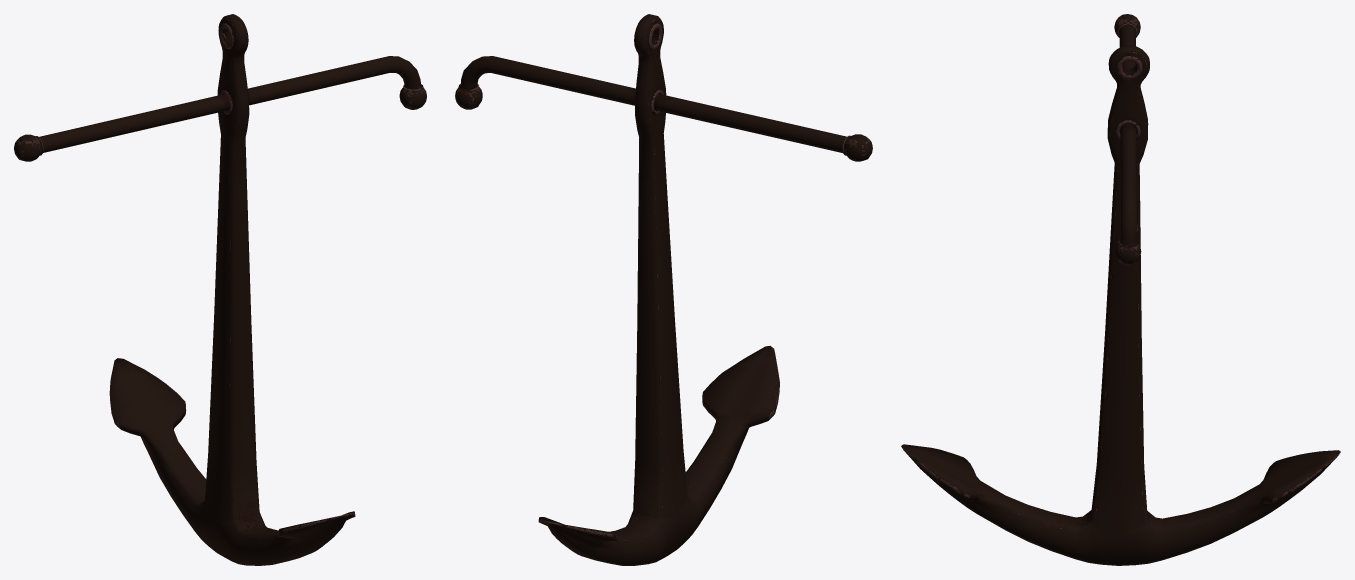
File: jangkar.fbx
The picture shows the model from 3 angles, left to right: view 1: azimuth 30°, elevation 25°; view 2: azimuth 150°, elevation 25°; view 3: azimuth 270°, elevation 25°; orthographic projection. The views are drawn at different scales.
Parts seen in each view (by area): view 1: defaultMaterial; view 2: defaultMaterial; view 3: defaultMaterial.
Boxes of the visible parts, box(x1,y1,x2,y2) form: defaultMaterial: box(14, 14, 426, 565); defaultMaterial: box(455, 14, 872, 565); defaultMaterial: box(901, 14, 1340, 565).
Size of the model in its own units: 73.76 by 91.59 by 70.45.
1 material, 1 textured.
